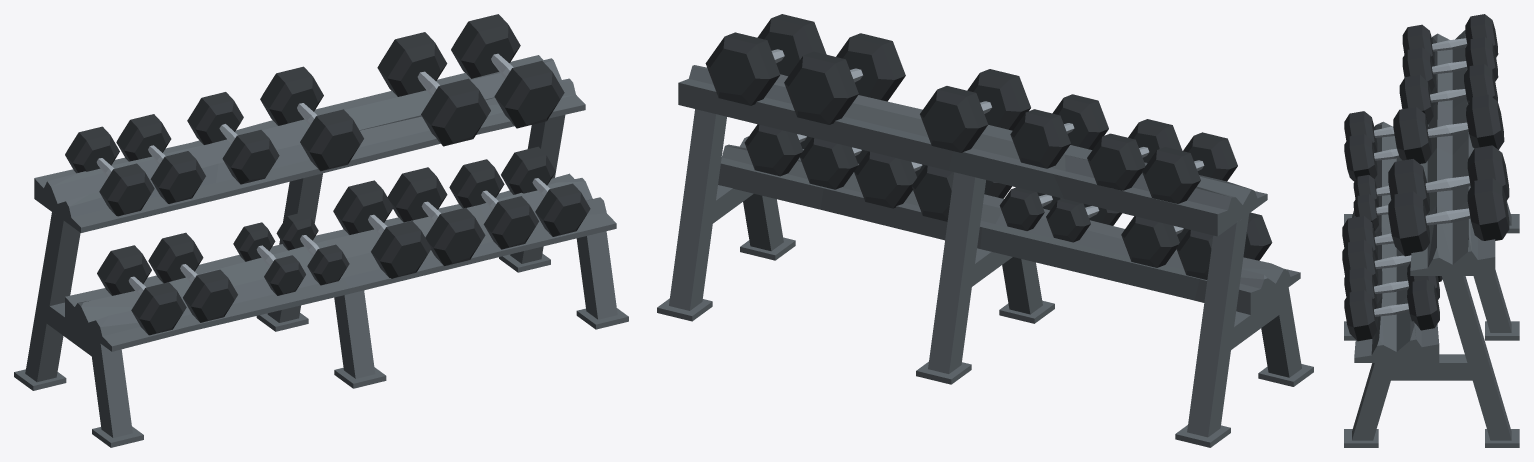
File: SM_Prop_Dumbbell_Rack_01.glb
3 renders of one model, left to right at view 1: azimuth 30°, elevation 25°; view 2: azimuth 150°, elevation 25°; view 3: azimuth 270°, elevation 25°, orthographic. The views are drawn at different scales.
Parts seen in each view (by area): view 1: SM_Prop_Dumbbell_Rack_01; view 2: SM_Prop_Dumbbell_Rack_01; view 3: SM_Prop_Dumbbell_Rack_01.
Boxes of the visible parts, x1,y1,x2,y2 form: SM_Prop_Dumbbell_Rack_01: (14,14,628,447); SM_Prop_Dumbbell_Rack_01: (657,14,1313,447); SM_Prop_Dumbbell_Rack_01: (1342,14,1519,447).
Bounding box in the file's own units: 1.92 × 0.921 × 0.6282.
1 material, 1 textured.
